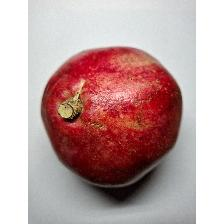Granatapfel: (38, 42, 184, 190)
